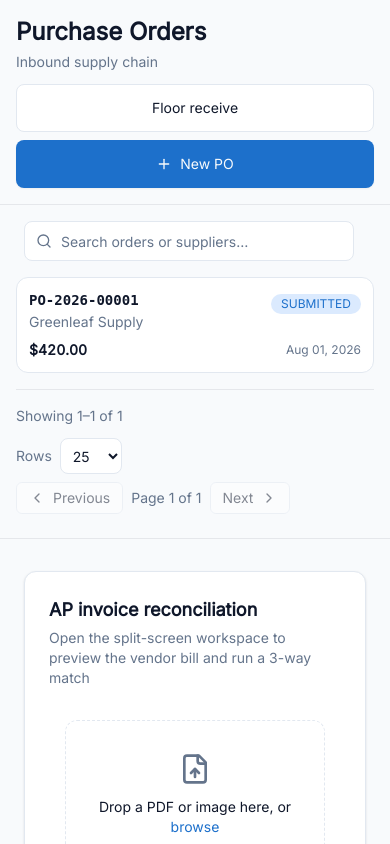
Test case: PurchaseOrdersPage mobile cards and header › renders paginated mobile cards below 768px and opens the peek drawer
Expected: the element with test id "pagination" is shown, top-left (16, 389), bottom-right (374, 514)
Expected: the button "Floor receive" is shown, top-left (16, 84), bottom-right (374, 132)
Click the button with test id "purchase-order-mobile-card-po-1": (84, 300) top-left (16, 277), bottom-right (374, 373)
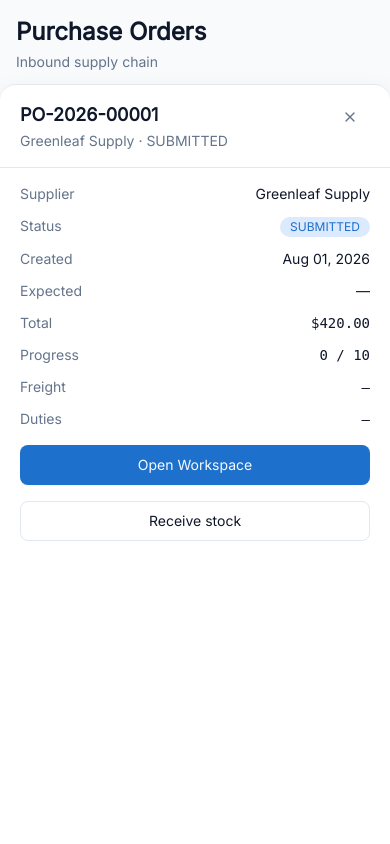
Expected: the button with test id "open-po-workspace" is shown, top-left (20, 445), bottom-right (370, 485)
